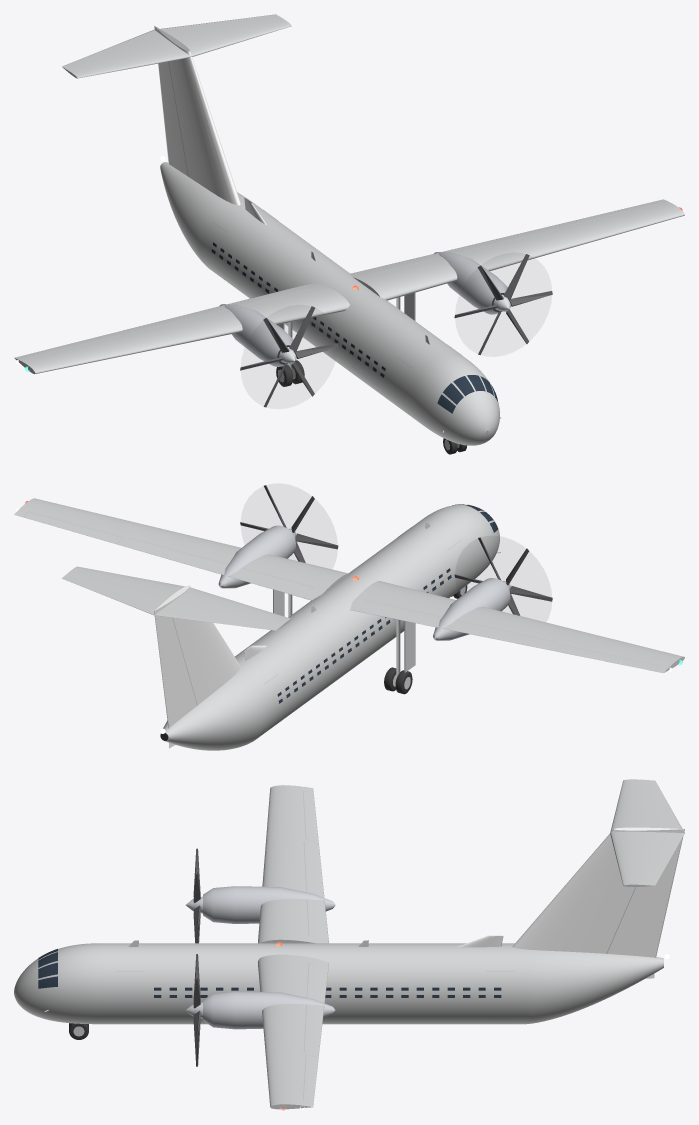
3 renders of one model, top to bottom at view 1: azimuth 30°, elevation 25°; view 2: azimuth 150°, elevation 25°; view 3: azimuth 270°, elevation 25°, orthographic.
Visible parts, largest first — view 1: airframe, prop (×2), gear; view 2: airframe, gear, prop (×2); view 3: airframe, prop (×2).
Part boxes in pixels (bbox=[...]): airframe: bbox=[14, 14, 684, 445]; prop (×2): bbox=[240, 254, 552, 407]; gear: bbox=[276, 292, 466, 454]; airframe: bbox=[14, 498, 684, 750]; gear: bbox=[273, 585, 467, 694]; prop (×2): bbox=[240, 485, 552, 615]; airframe: bbox=[14, 779, 684, 1110]; prop (×2): bbox=[193, 848, 200, 1066].
Size of the model in its own units: 26.19 by 7.86 by 23.02.
